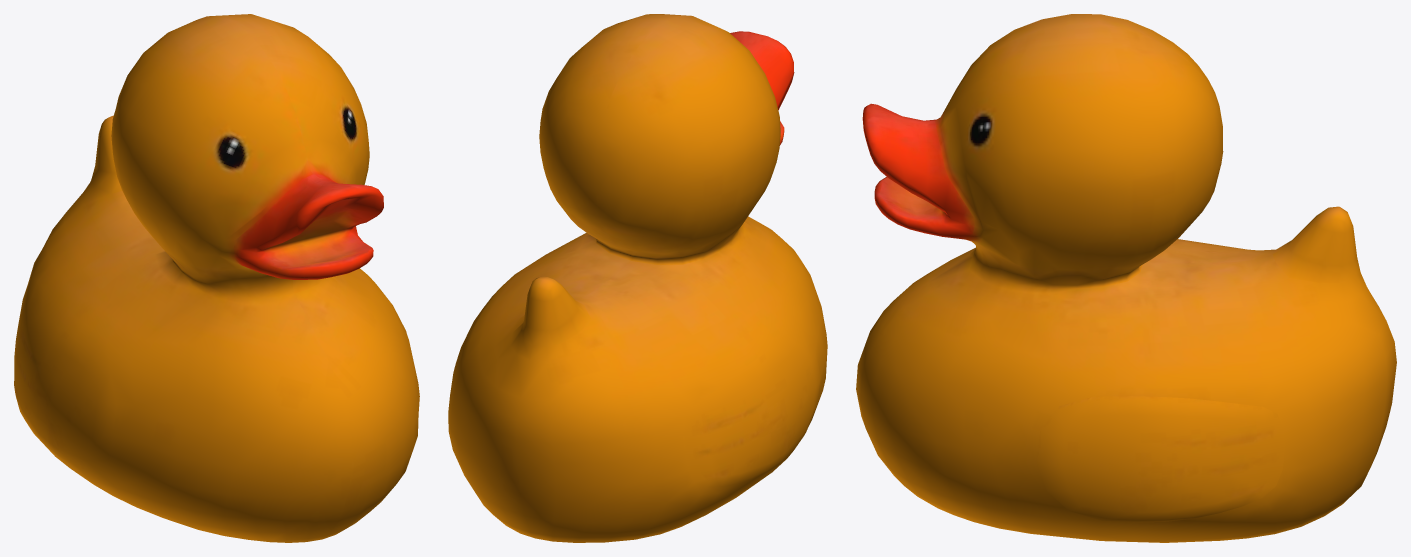
The model's file is rubber_duck_toy.glb.
The picture shows the model from 3 angles, left to right: view 1: azimuth 30°, elevation 25°; view 2: azimuth 150°, elevation 25°; view 3: azimuth 270°, elevation 25°; orthographic projection. The views are drawn at different scales.
Parts seen in each view (by area): view 1: rubber_duck_toy; view 2: rubber_duck_toy; view 3: rubber_duck_toy.
Part boxes in pixels (x1,y1,x2,y2): rubber_duck_toy: (14,14,419,542); rubber_duck_toy: (448,14,827,542); rubber_duck_toy: (856,14,1396,542).
Size of the model in its own units: 0.2135 by 0.2853 by 0.3.
1 material, 1 textured.
